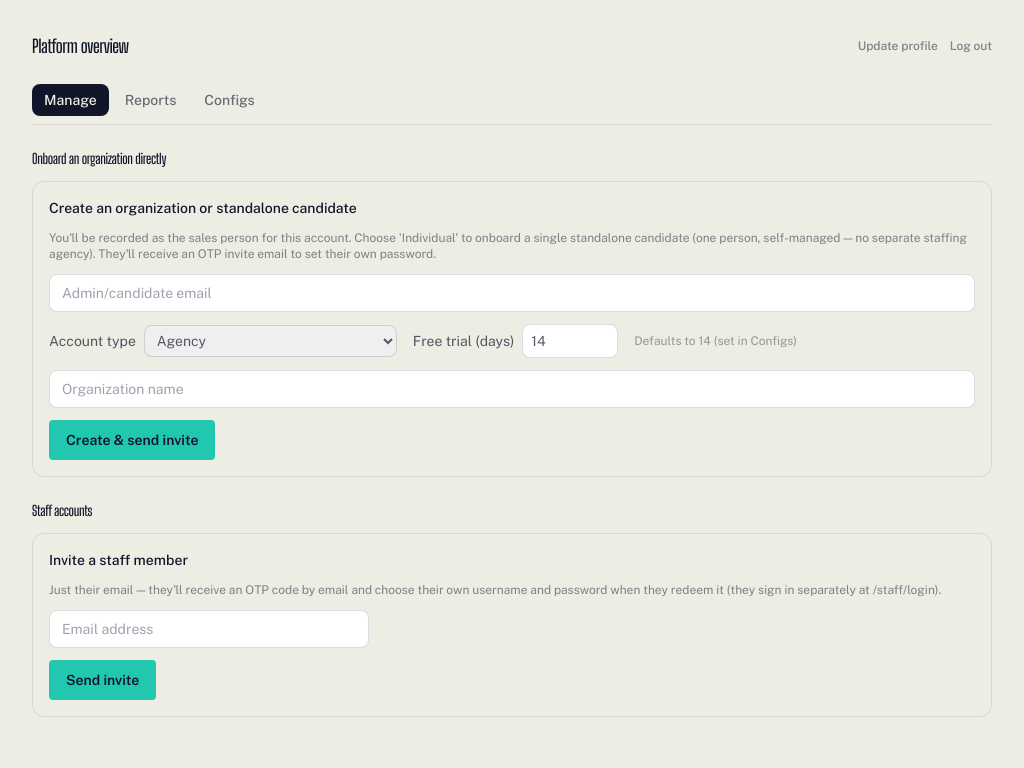
Test: SuperuserDashboard › shows pending invites in the reports tab
Step 1. Click the button "Reports" → (151, 100), box [113,84,188,116]
(page scrolled)
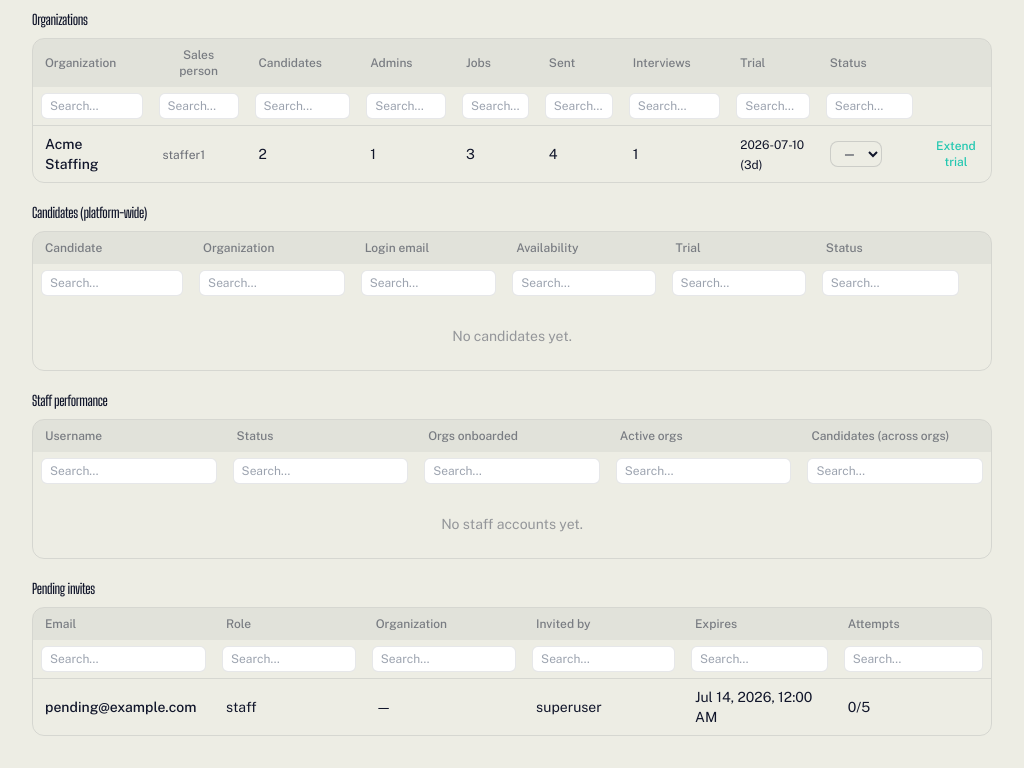
Result: the text "pending@example.com" is shown at [45,699,196,715]
Result: the text "staff" is shown at [214,678,364,735]
